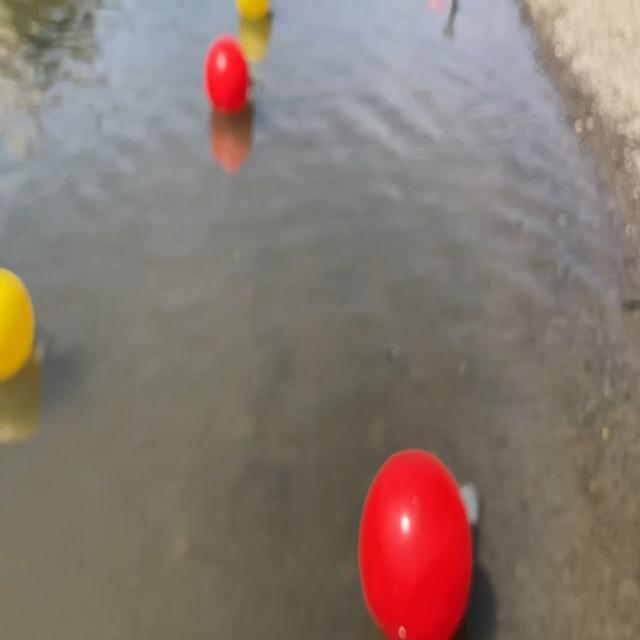buoy: (356, 446, 478, 640), (1, 266, 36, 384), (204, 33, 252, 116), (235, 1, 268, 22)
